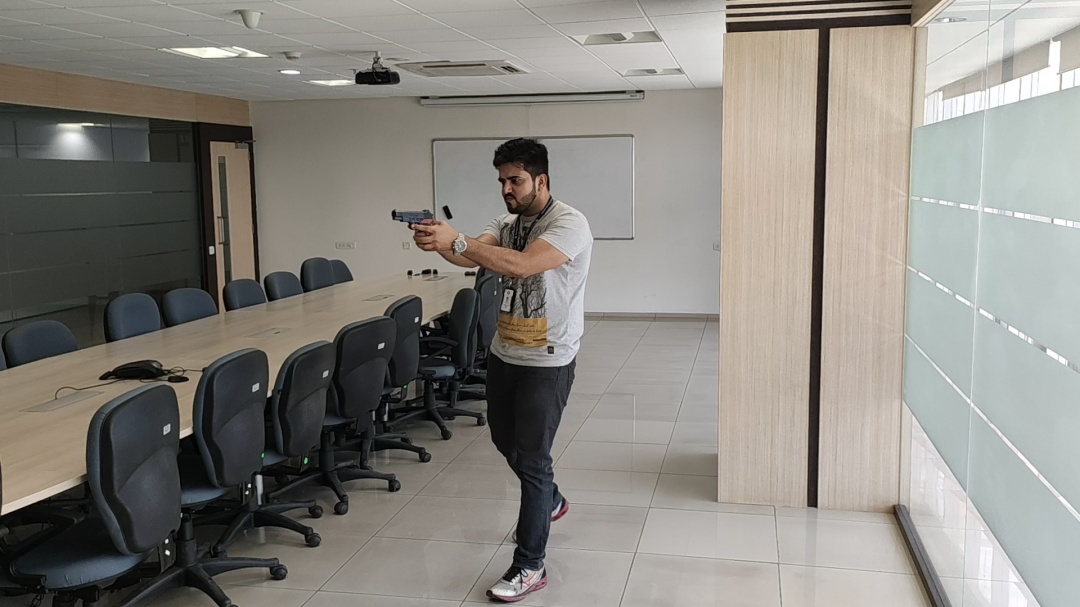gun: (396, 44, 837, 574)
